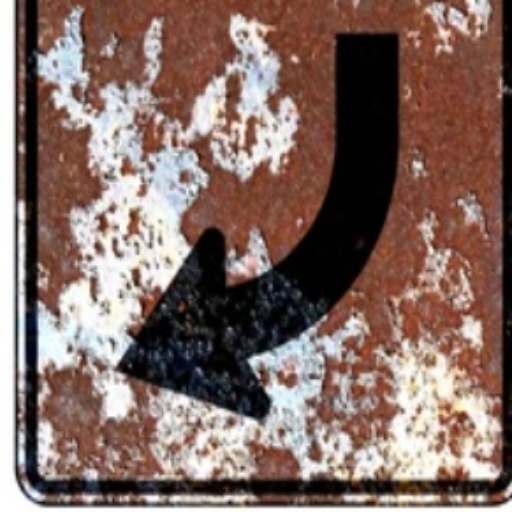Turn left: (98, 15, 414, 430)
